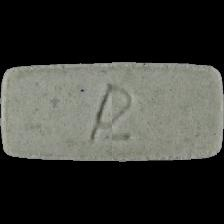48433-115: (0, 0, 224, 224)
